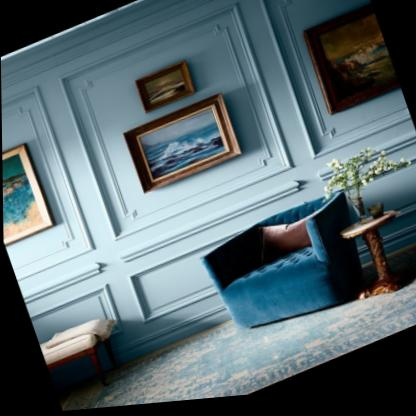Futec frame: (52, 0, 333, 364), (242, 0, 416, 287), (1, 69, 148, 404)
